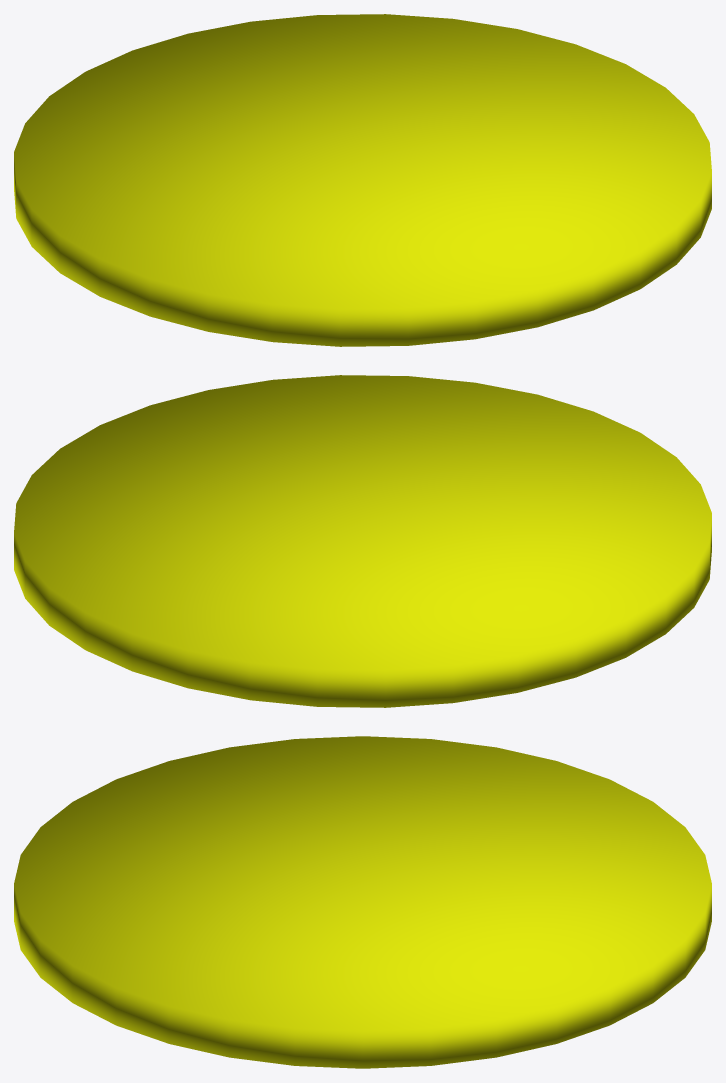
File: cartoon_coin.fbx
The picture shows the model from 3 angles, top to bottom: view 1: azimuth 30°, elevation 25°; view 2: azimuth 150°, elevation 25°; view 3: azimuth 270°, elevation 25°; orthographic projection.
Parts seen in each view (by area): view 1: Coin; view 2: Coin; view 3: Coin.
Part boxes in pixels (left/top/right/bottom): Coin: left=14, top=14, right=711, bottom=346; Coin: left=14, top=375, right=711, bottom=707; Coin: left=14, top=736, right=711, bottom=1068.
Size of the model in its own units: 5.99 by 0.3565 by 5.99.
